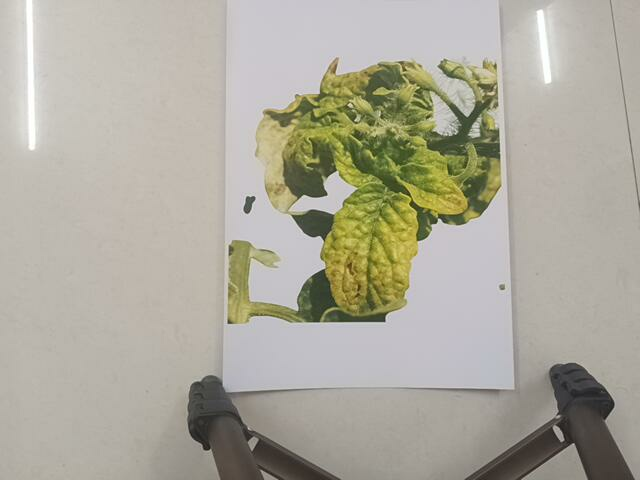Tomamto_Leaf_curl_virus: (231, 41, 500, 345)
